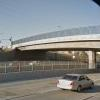Bridge: (11, 20, 97, 61)
